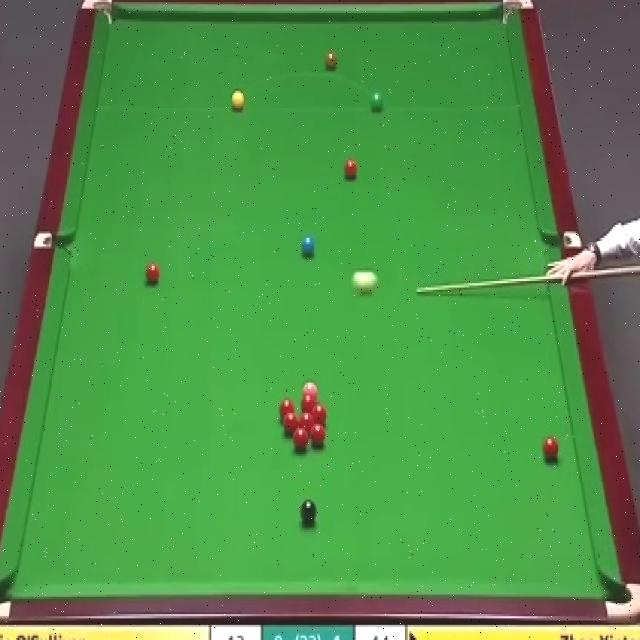black-ball: (300, 498, 318, 524)
blue-ball: (301, 236, 315, 256)
brown-ball: (324, 51, 337, 71)
green-ball: (369, 90, 383, 112)
pink-ball: (303, 380, 318, 398)
red-ball: (542, 436, 559, 460), (144, 261, 160, 285), (301, 409, 317, 432), (343, 159, 358, 182), (294, 425, 309, 447), (310, 424, 324, 446), (280, 399, 294, 419), (316, 403, 326, 424), (286, 412, 300, 427), (301, 399, 315, 410)
white-ball: (357, 271, 373, 293)
yellow-ball: (230, 90, 244, 111)
